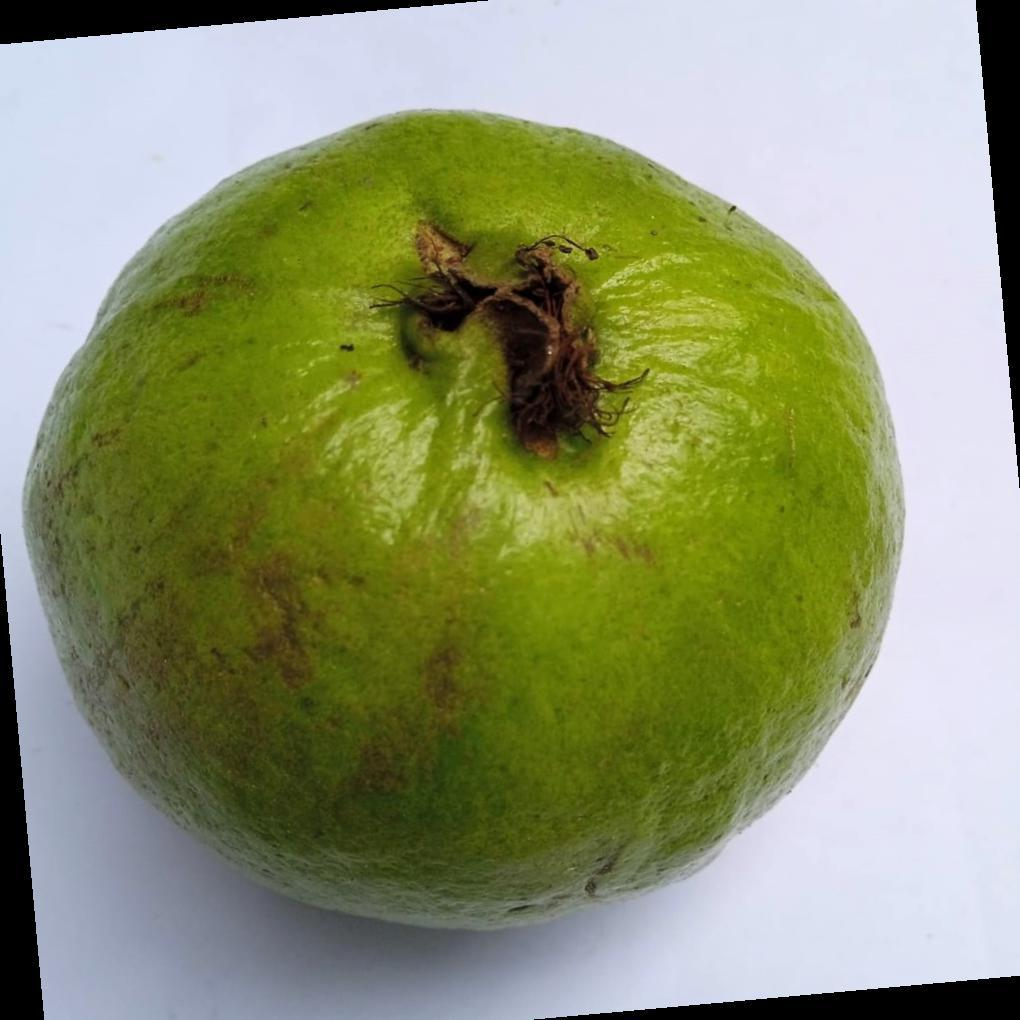FreshGuava: (27, 113, 905, 934)
